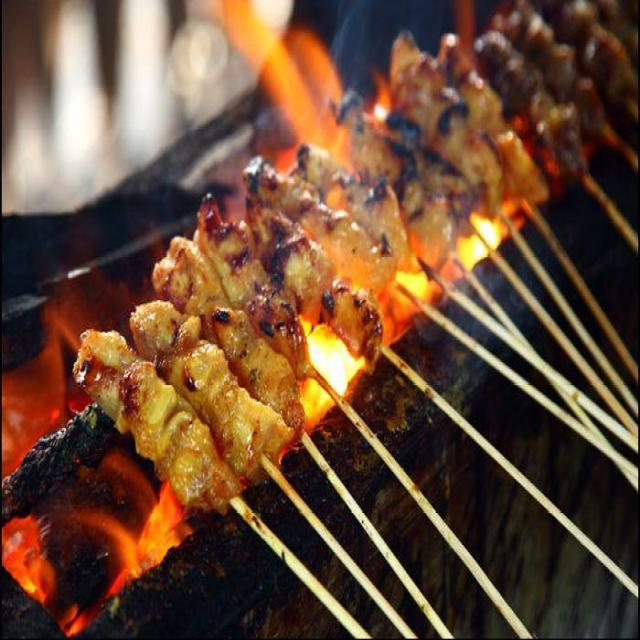Sate: (62, 12, 629, 614)
